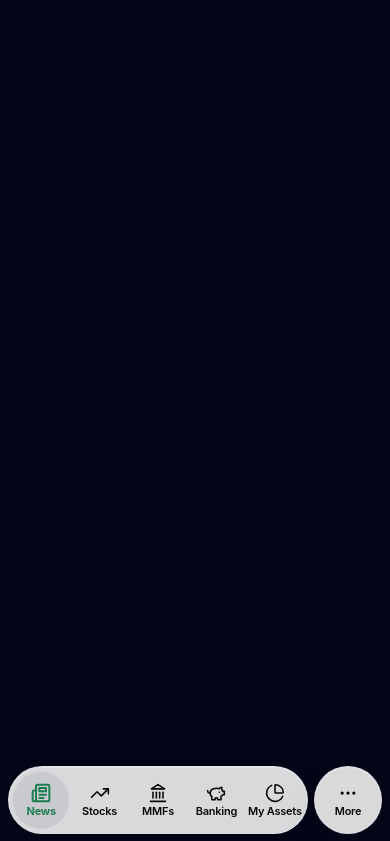
Test: MobileBottomNav Tab Highlighting Verification › highlights More button when the drawer is opened
Click the button with aria-label "open more tools and markets menu" at coordinates (348, 800), box [314, 766, 382, 834]
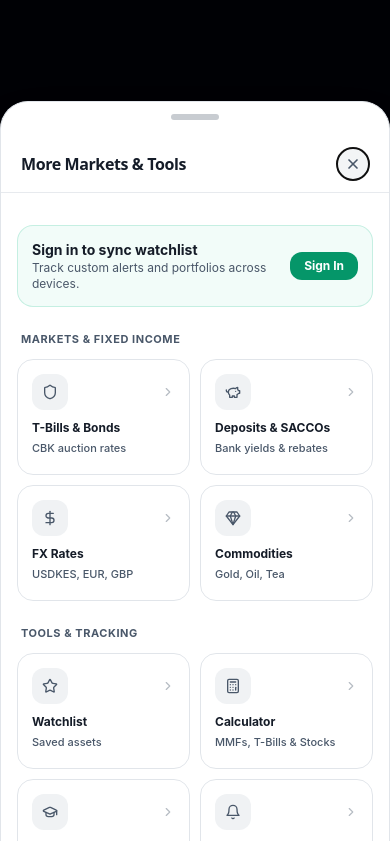
Now the text "More" has class "text-emerald-600", box [335, 804, 361, 818]
